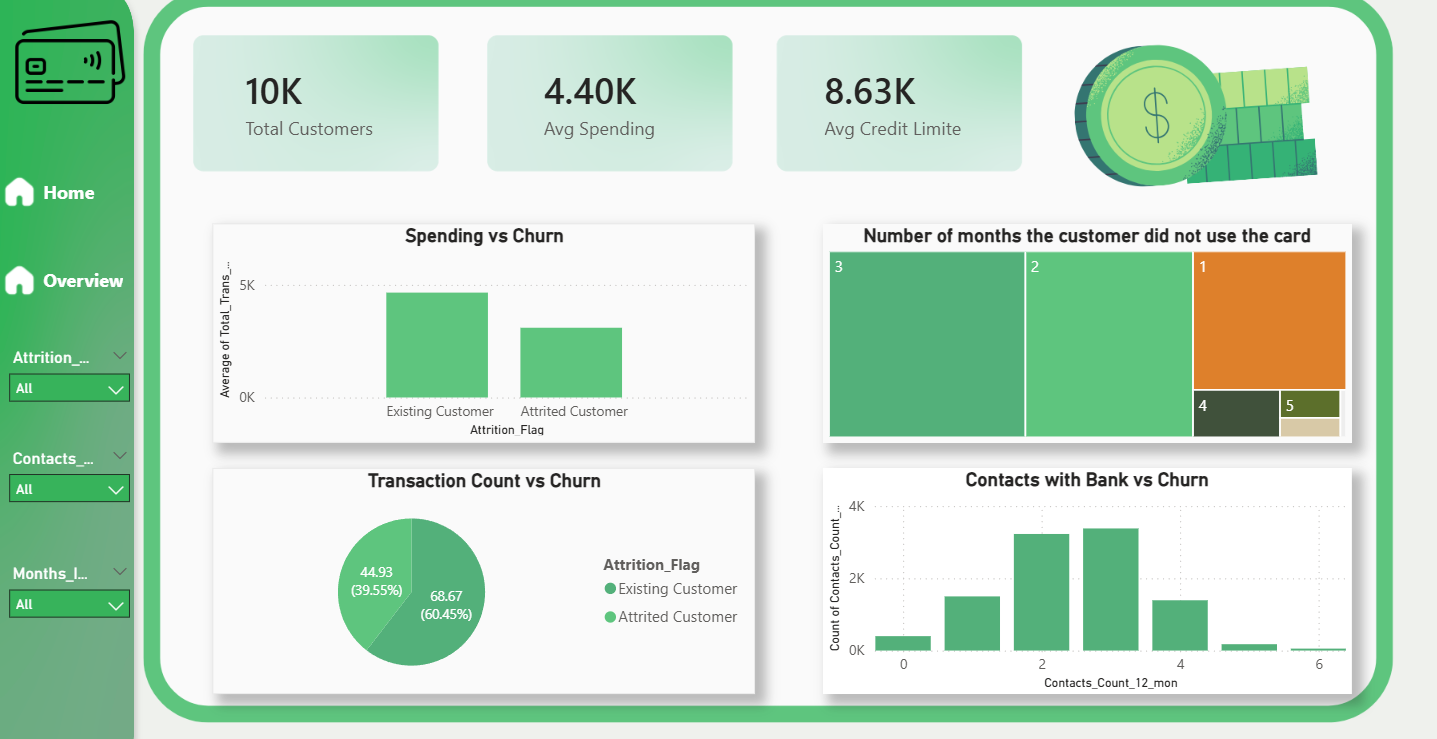

What the dashboard file says about the page in this screenshot:
{"tool":"powerbi","page":{"name":"details Customer Behavior","canvas":[1280,720],"ordinal":2},"visuals":[{"type":"image","box":[0,0,128.3,689.8],"z":0},{"type":"actionButton","box":[0,225.2,129.8,54.7],"z":1000},{"type":"actionButton","box":[0,147,129.8,54.7],"z":2000},{"type":"image","box":[172.1,31.3,217.4,129.8],"z":3000},{"type":"image","box":[433.3,31.3,217.4,129.8],"z":4000},{"type":"image","box":[688.2,31.3,217.4,129.8],"z":5000},{"type":"cardVisual","fields":{"Data":["BankChurners_cleaned.Total Customers"]},"box":[189.3,45.4,186.1,101.7],"z":6000},{"type":"pieChart","title":"Transaction Count vs Churn","fields":{"Category":["BankChurners_cleaned.Attrition_Flag"],"Y":["Avg(BankChurners_cleaned.Total_Trans_Ct)"]},"box":[189.3,419.2,480.2,200.2],"z":7000},{"type":"cardVisual","fields":{"Data":["BankChurners_cleaned.Avg Spending"]},"box":[453.6,45.4,186.1,101.7],"z":8000},{"type":"cardVisual","fields":{"Data":["BankChurners_cleaned.Avg Credit Limite"]},"box":[702.3,45.4,186.1,101.7],"z":9000},{"type":"columnChart","title":"Spending vs Churn","fields":{"Y":["Avg(BankChurners_cleaned.Total_Trans_Amt)"],"Category":["BankChurners_cleaned.Attrition_Flag"]},"box":[189.3,203.3,480.2,194],"z":10000},{"type":"columnChart","title":"Contacts with Bank vs Churn","fields":{"Category":["BankChurners_cleaned.Contacts_Count_12_mon"],"Y":["CountNonNull(BankChurners_cleaned.Contacts_Count_12_mon)"]},"box":[730.5,419.2,467.7,200.2],"z":11000},{"type":"treemap","title":"Number of months the customer did not use the card","fields":{"Group":["BankChurners_cleaned.Months_Inactive_12_mon"],"Values":["CountNonNull(BankChurners_cleaned.Months_Inactive_12_mon)"]},"box":[730.5,203.3,467.7,194],"z":12000},{"type":"slicer","fields":{"Values":["BankChurners_cleaned.Attrition_Flag"]},"box":[0,308.1,126.7,76.6],"z":13000},{"type":"slicer","fields":{"Values":["BankChurners_cleaned.Contacts_Count_12_mon"]},"box":[0,397.3,126.7,84.5],"z":14000},{"type":"slicer","fields":{"Values":["BankChurners_cleaned.Months_Inactive_12_mon"]},"box":[0,499,126.7,76.6],"z":15000},{"type":"image","box":[14.1,12.5,98.5,97],"z":16000}]}

Visuals, with their boxes on the page's 1280x720 design canvas (x1, y1, x2, y2). These are canvas units, not pixel positions in the 1437x739 screenshot, which may show the page scaled, cropped or inside an application window:
image: select_region(0, 0, 128, 690)
actionButton: select_region(0, 225, 130, 280)
actionButton: select_region(0, 147, 130, 202)
image: select_region(172, 31, 390, 161)
image: select_region(433, 31, 651, 161)
image: select_region(688, 31, 906, 161)
cardVisual - BankChurners_cleaned.Total Customers: select_region(189, 45, 375, 147)
"Transaction Count vs Churn" pieChart: select_region(189, 419, 670, 619)
cardVisual - BankChurners_cleaned.Avg Spending: select_region(454, 45, 640, 147)
cardVisual - BankChurners_cleaned.Avg Credit Limite: select_region(702, 45, 888, 147)
"Spending vs Churn" columnChart: select_region(189, 203, 670, 397)
"Contacts with Bank vs Churn" columnChart: select_region(730, 419, 1198, 619)
"Number of months the customer did not use the card" treemap: select_region(730, 203, 1198, 397)
slicer - BankChurners_cleaned.Attrition_Flag: select_region(0, 308, 127, 385)
slicer - BankChurners_cleaned.Contacts_Count_12_mon: select_region(0, 397, 127, 482)
slicer - BankChurners_cleaned.Months_Inactive_12_mon: select_region(0, 499, 127, 576)
image: select_region(14, 12, 113, 110)
